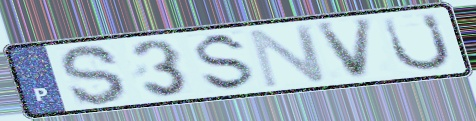3: (127, 37, 194, 100)
N: (245, 22, 330, 90)
S: (57, 42, 131, 107), (193, 30, 259, 93)
U: (380, 11, 455, 74)
V: (312, 15, 377, 82)
